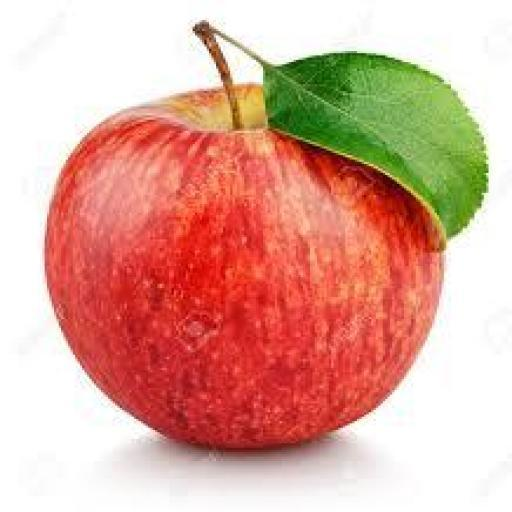apple: (45, 85, 443, 447)
